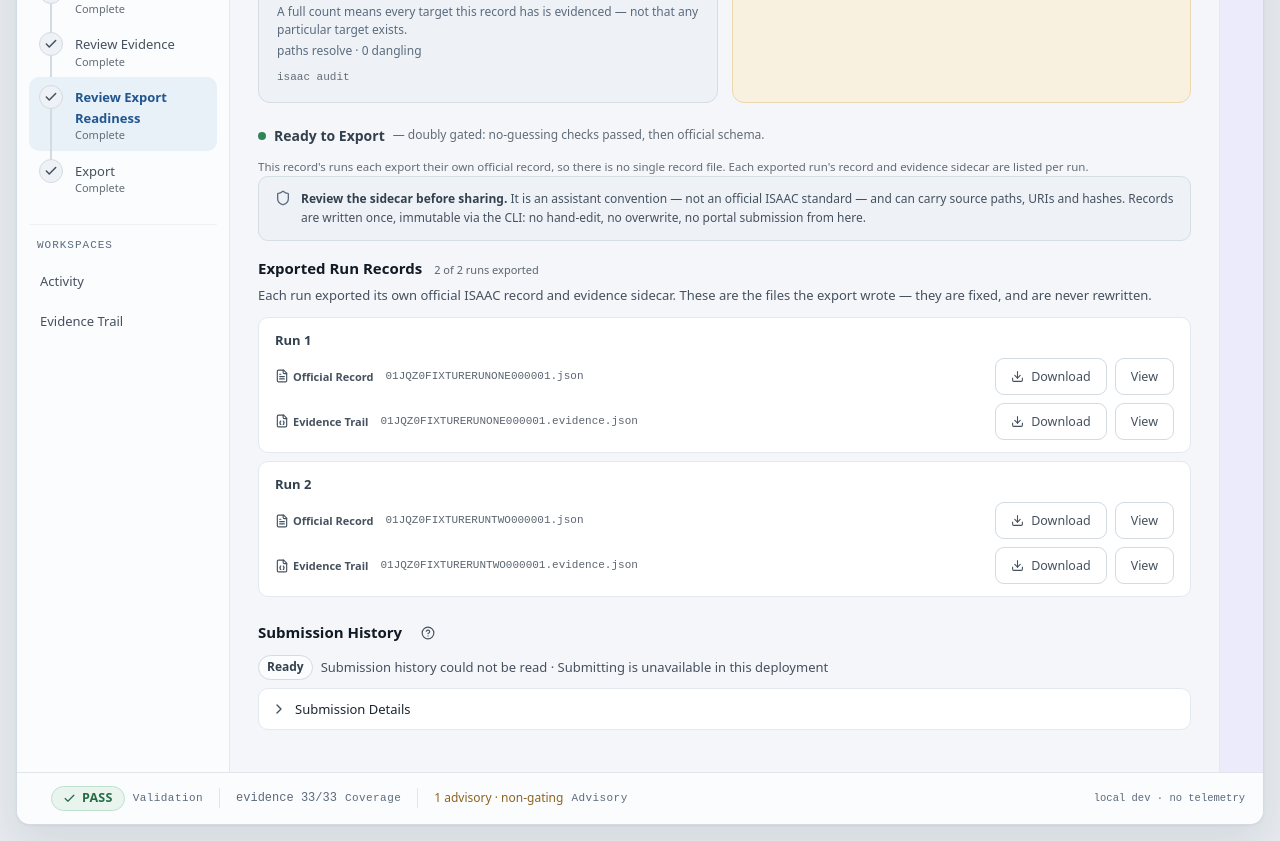
A-02 · a fan-out record’s exported files can be viewed and downloaded after a reload › View opens the ONE dialog with that run’s written content and names the run
(page scrolled)
Click the button with aria-label "View official record for Run 2" at (1144, 520), box [1115,502,1174,539]
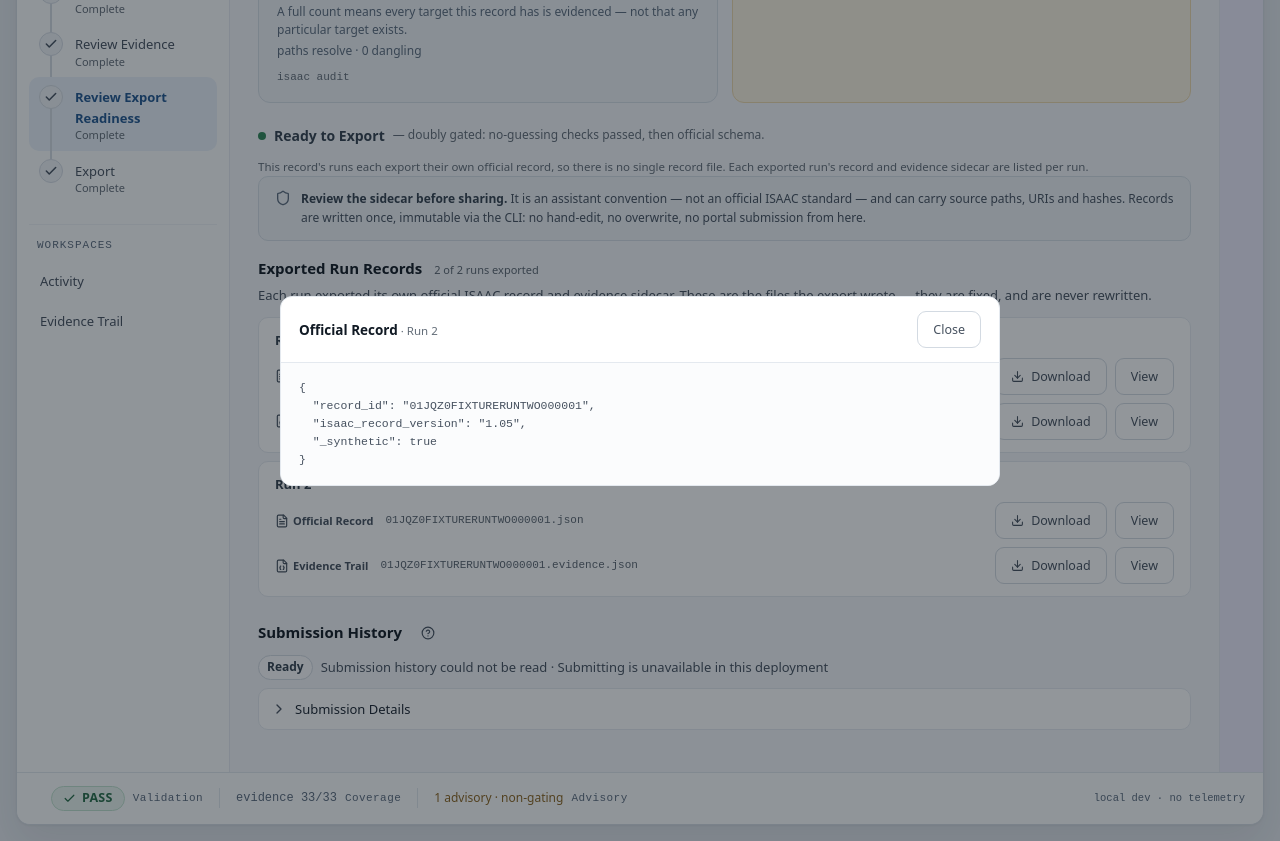
expect the dialog does not show "01JQZ0FIXTURERUNONE000001": met
expect the text "· Run 2" is shown: met, box [398,322,438,338]
expect the dialog shows "01JQZ0FIXTURERUNTWO000001": met, box [299,382,596,466]
